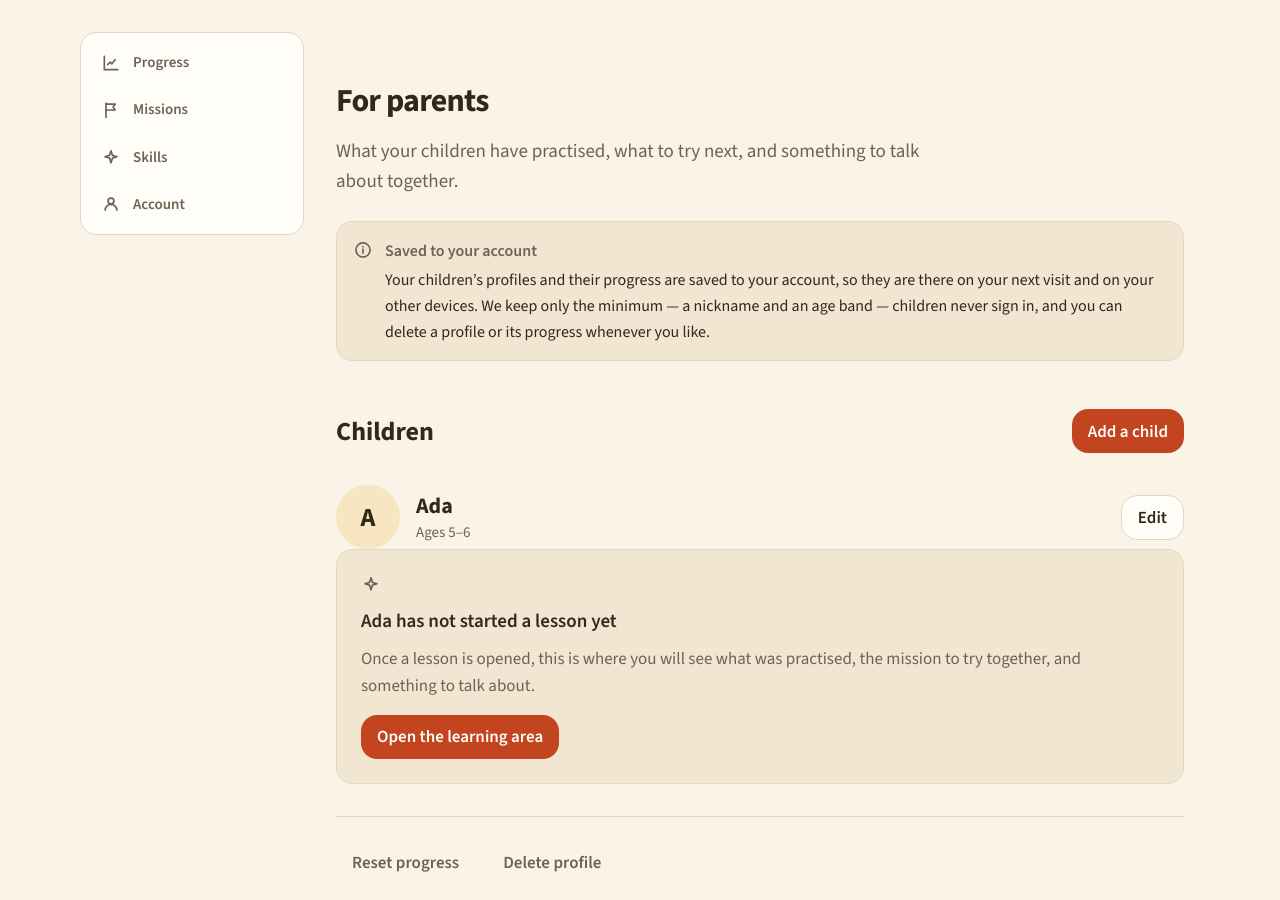
it: editing a profile › refuses to save an empty nickname
Click the button with aria-label "Edit profile: Ada" at (1152, 517), box [1121, 495, 1184, 540]
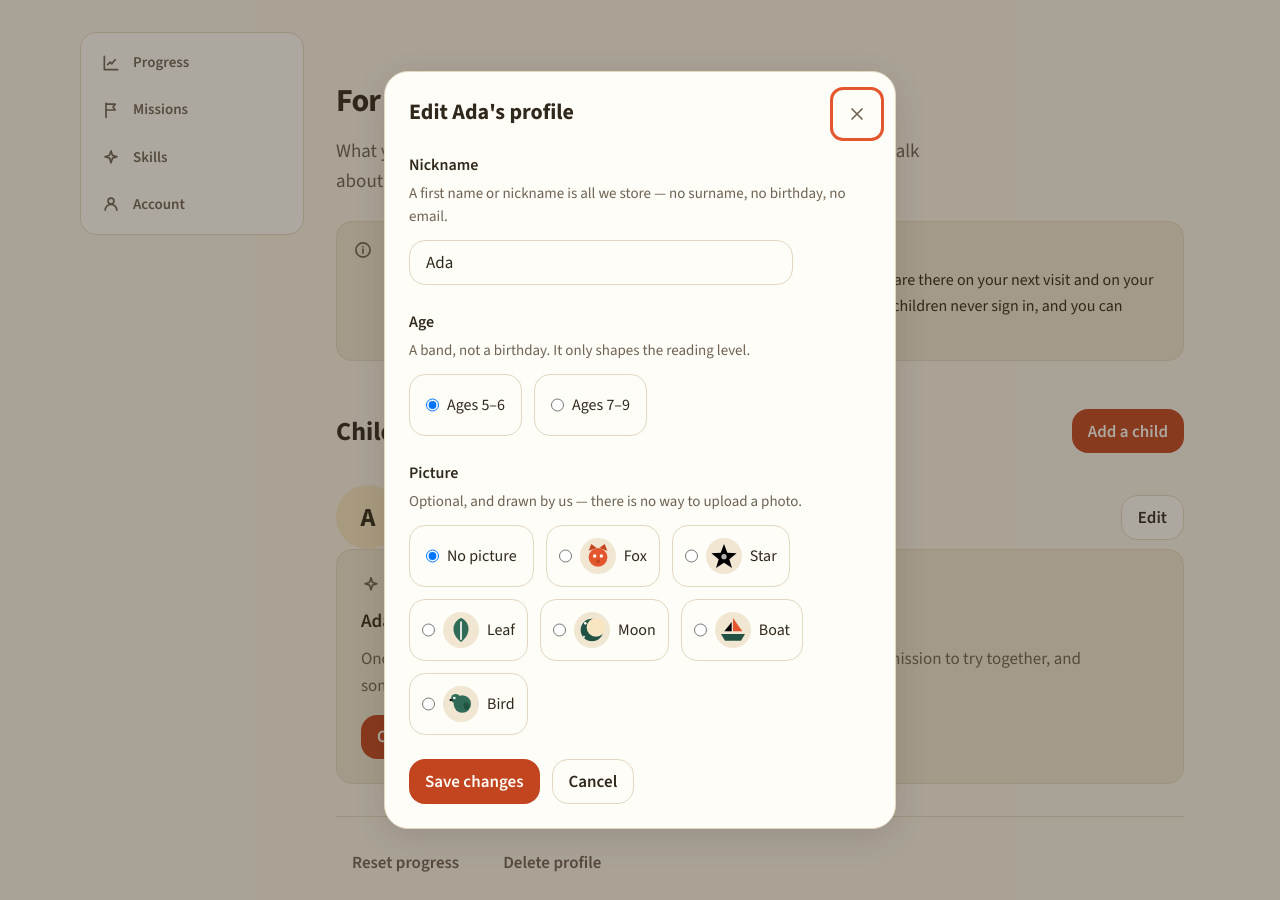
Clear the field labelled "Nickname" at (601, 263), box [409, 240, 793, 285]
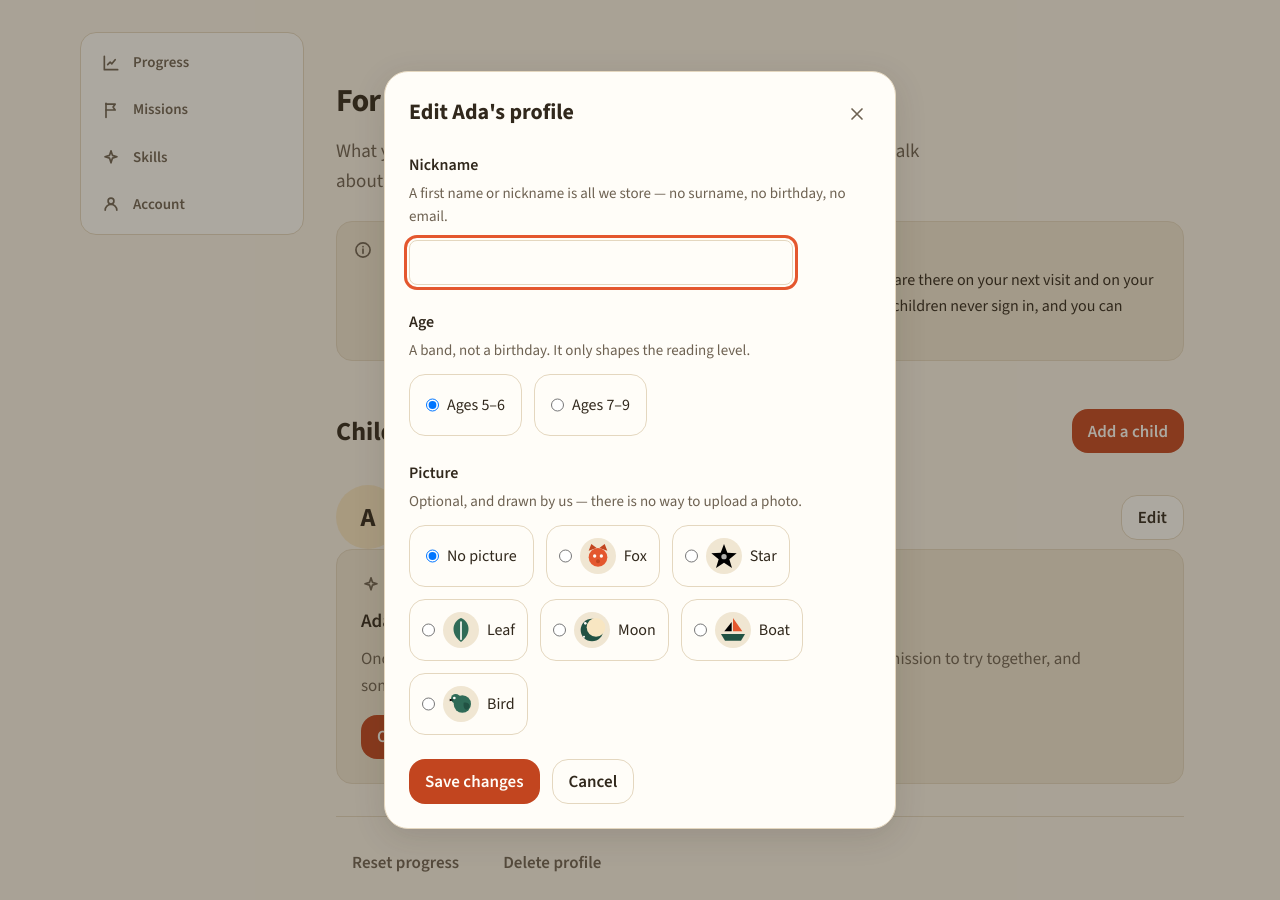
Click the button "Save changes" at (474, 782), box [409, 759, 540, 804]
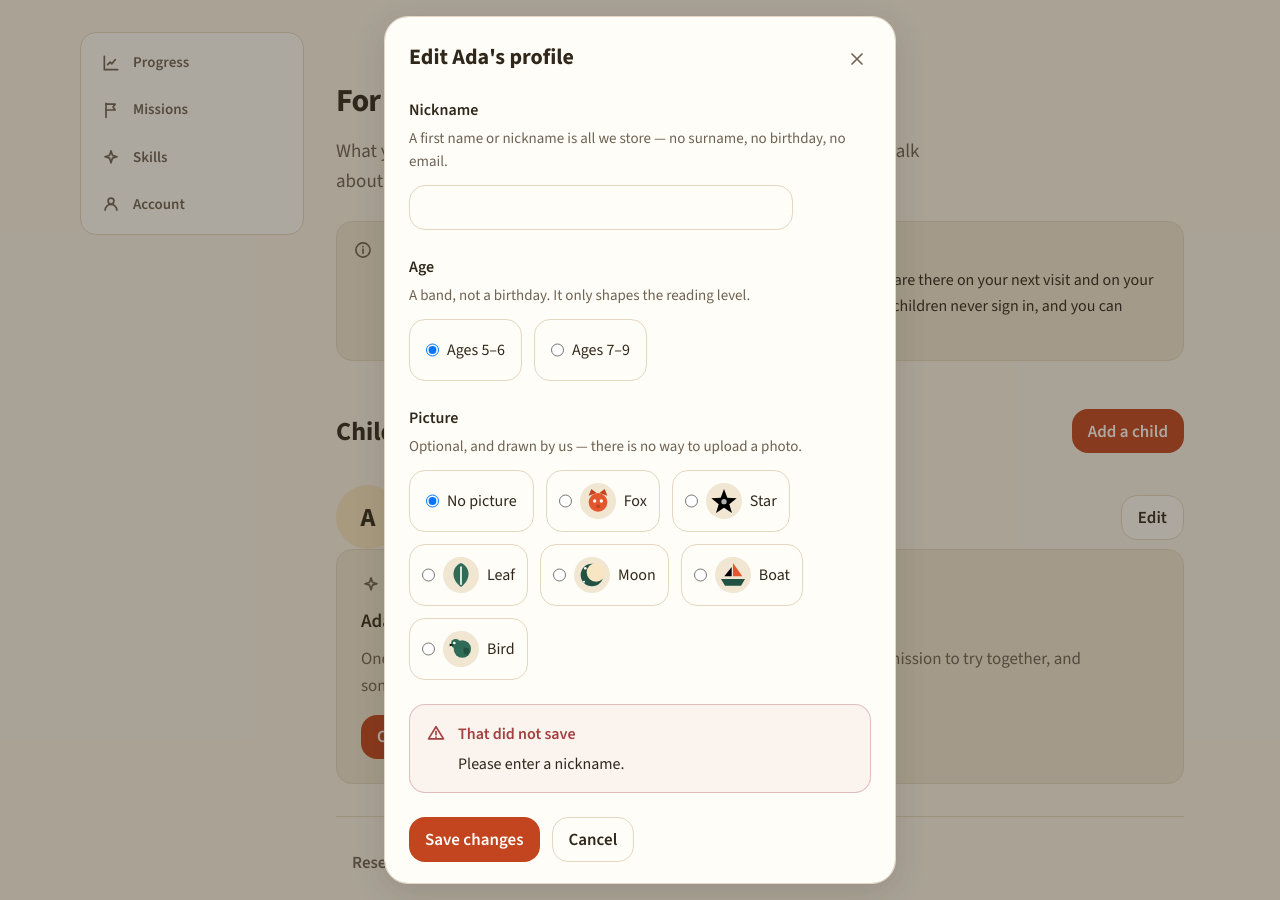
Check: the heading "Ada" is shown, box [416, 491, 453, 520]
Check: the text "Please enter a nickname." is shown, box [458, 751, 624, 776]
